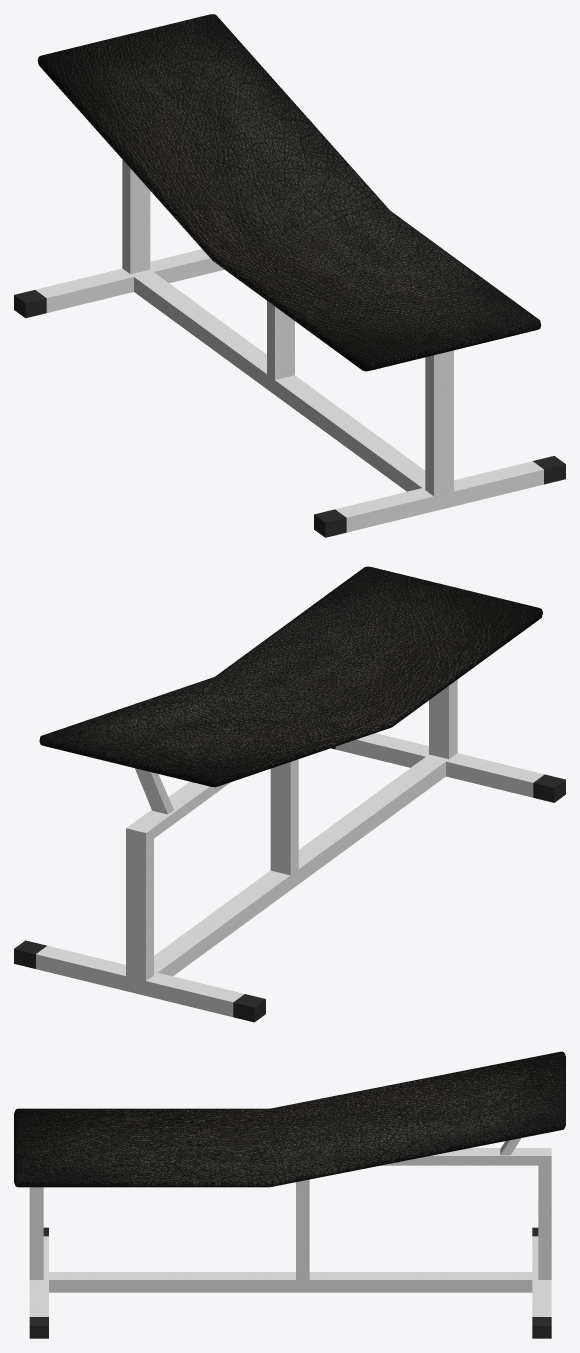
The model's file is Bench03.FBX.
3 renders of one model, top to bottom at view 1: azimuth 30°, elevation 25°; view 2: azimuth 150°, elevation 25°; view 3: azimuth 270°, elevation 25°, orthographic. The views are drawn at different scales.
Parts seen in each view (by area): view 1: Simulator_Bench03; view 2: Simulator_Bench03; view 3: Simulator_Bench03.
Part boxes in pixels (x1,y1,x2,y2): Simulator_Bench03: [14, 14, 565, 537]; Simulator_Bench03: [14, 566, 565, 1022]; Simulator_Bench03: [14, 1051, 565, 1338].
Bounding box in the file's own units: 773 × 741 × 1832.
